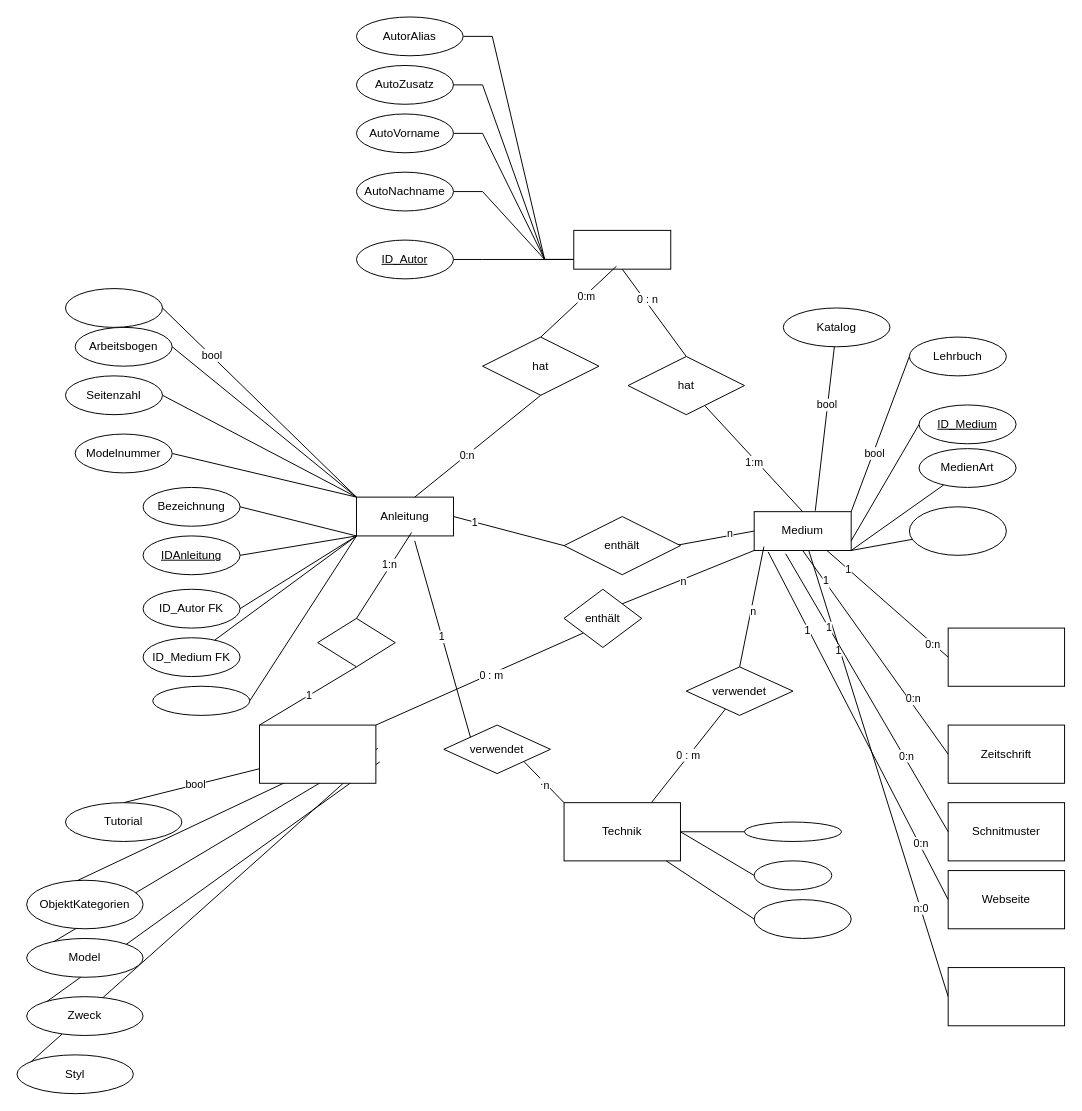
Some shapes in this 1082 by 1111 pixel diagram are drawn without their labels. The centre of each missing label's shape, as x and y in pixels:
"Arbeitsweise" goes at (x=792, y=875).
"Autor" goes at (x=622, y=249).
"Buch" goes at (x=1006, y=656).
"Flyer" goes at (x=1006, y=996).
"Grundschnitt" goes at (x=113, y=307).
"ID_Anleitung FK" goes at (x=957, y=530).
"ID_Objekt FK" goes at (x=201, y=700).
"ist für" goes at (x=356, y=642).
"Methode" goes at (x=792, y=831).
"Objekt" goes at (x=317, y=753).
"TechnikBereich" goes at (x=802, y=918).
